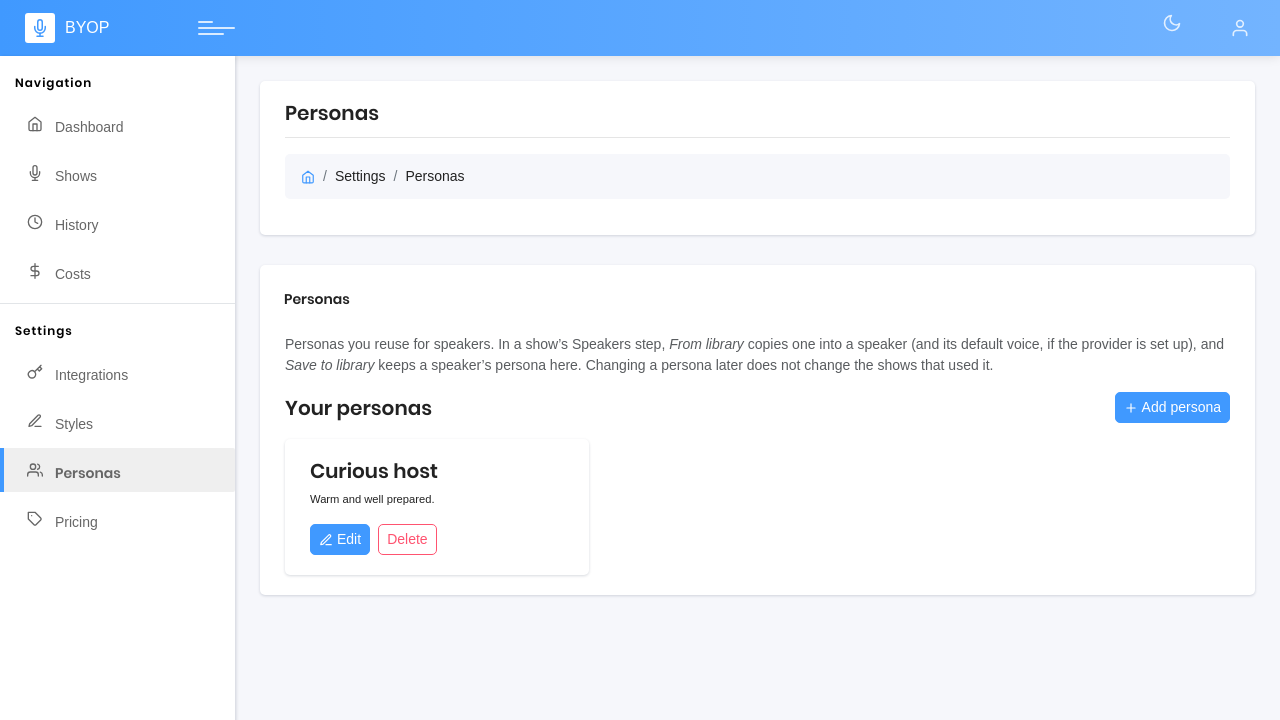
it: Personas page › shows the server’s reason when a name is taken
Check: the heading "Your personas" is shown, box [285,396,432,420]
Click the button "Add persona".
click(1172, 408)  # box [1115,392,1230,423]
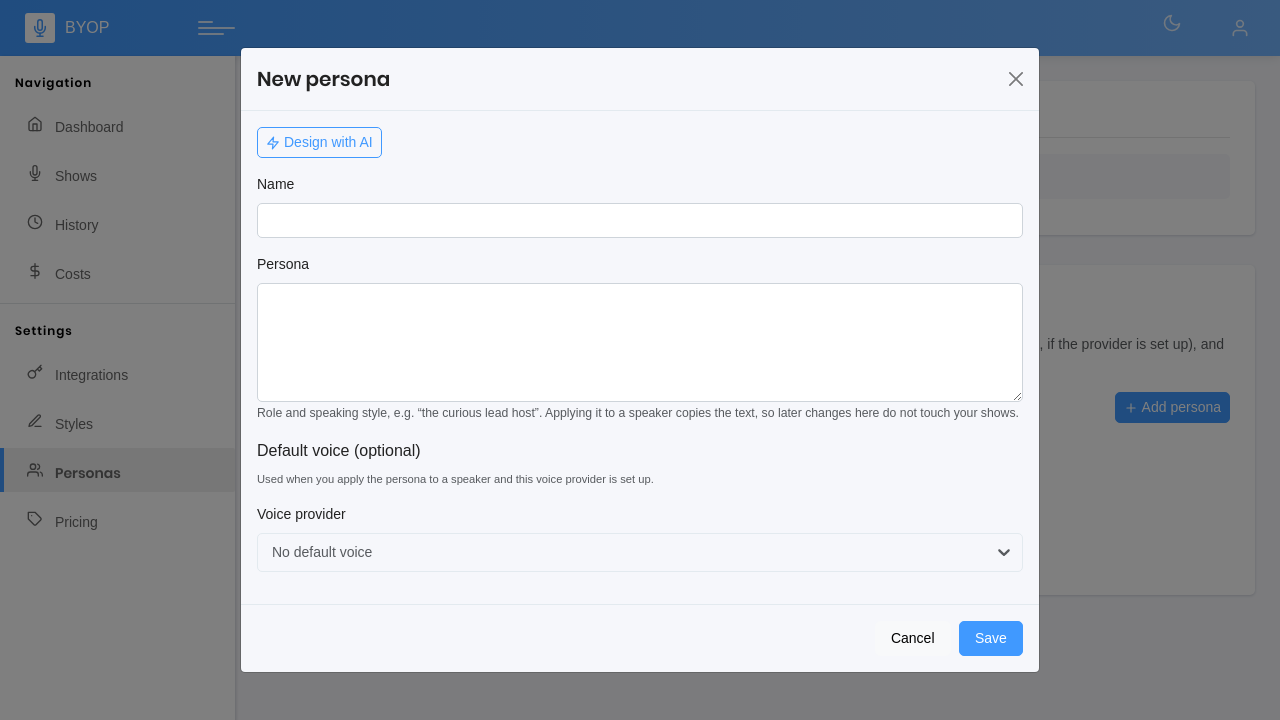
Type "curious host" into the field labelled "Name".
click(640, 221); type("curious host")  # box [257,203,1023,238]
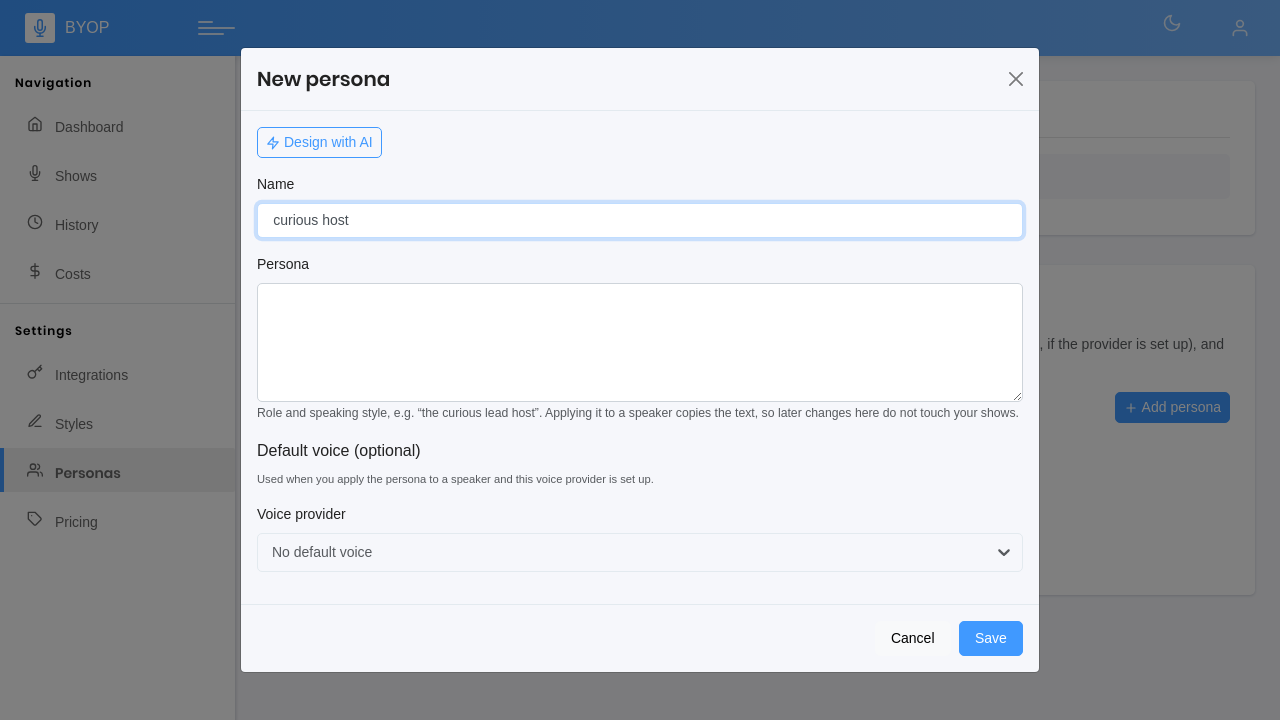
Type "x" into the text box labelled "Persona".
click(640, 343); type("x")  # box [257,283,1023,402]
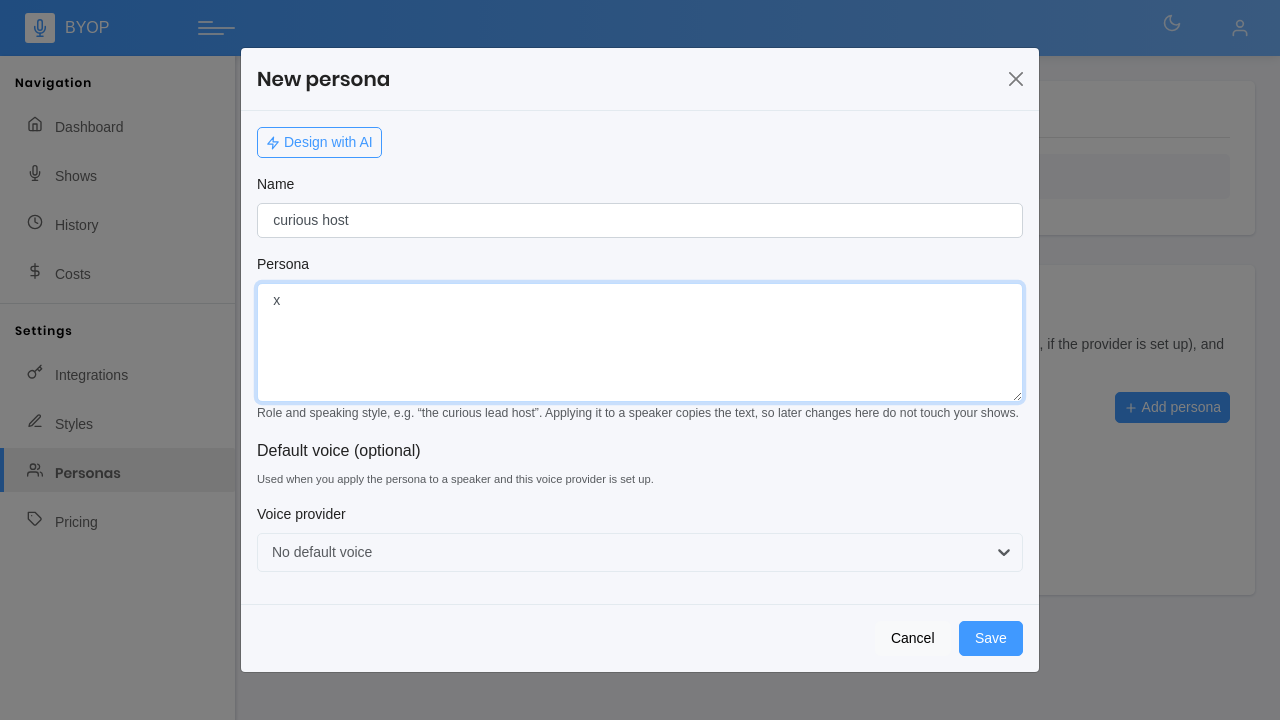
Click the button "Save".
click(991, 638)  # box [959,621,1023,656]
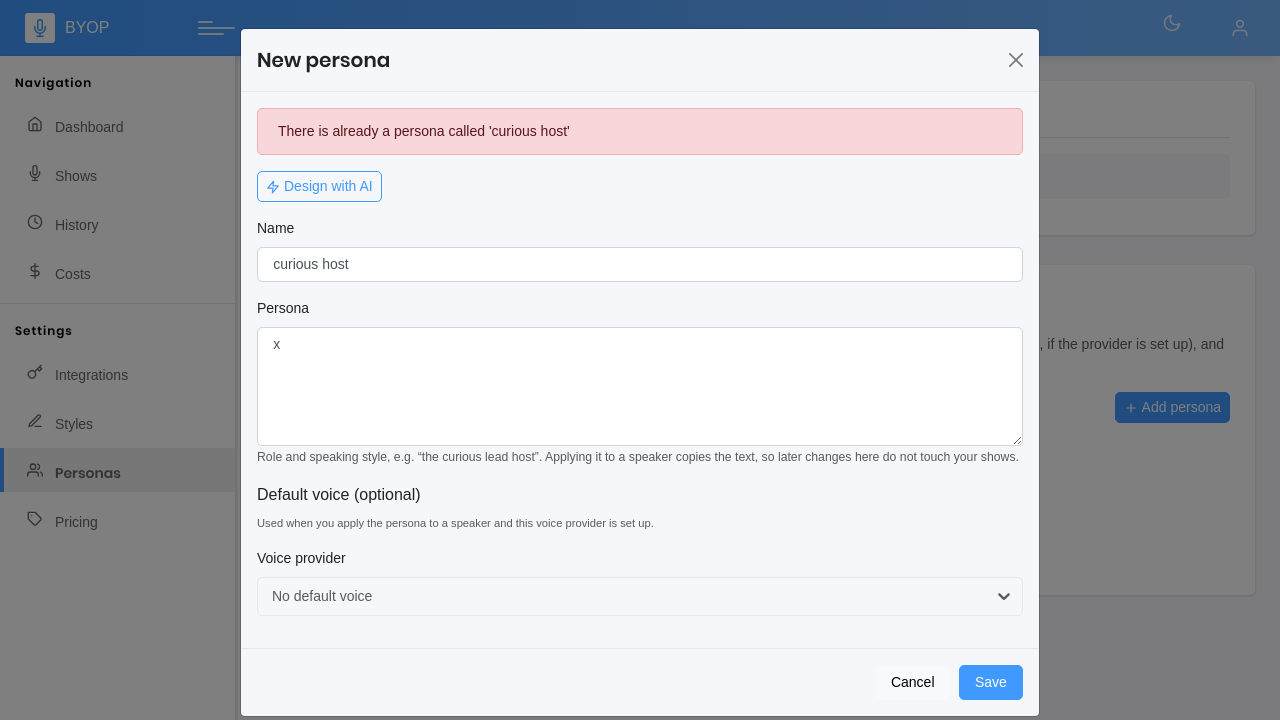
Check: the dialog is shown, box [240,28,1040,717]
Check: the message shows "already a persona called", box [278,123,570,139]
